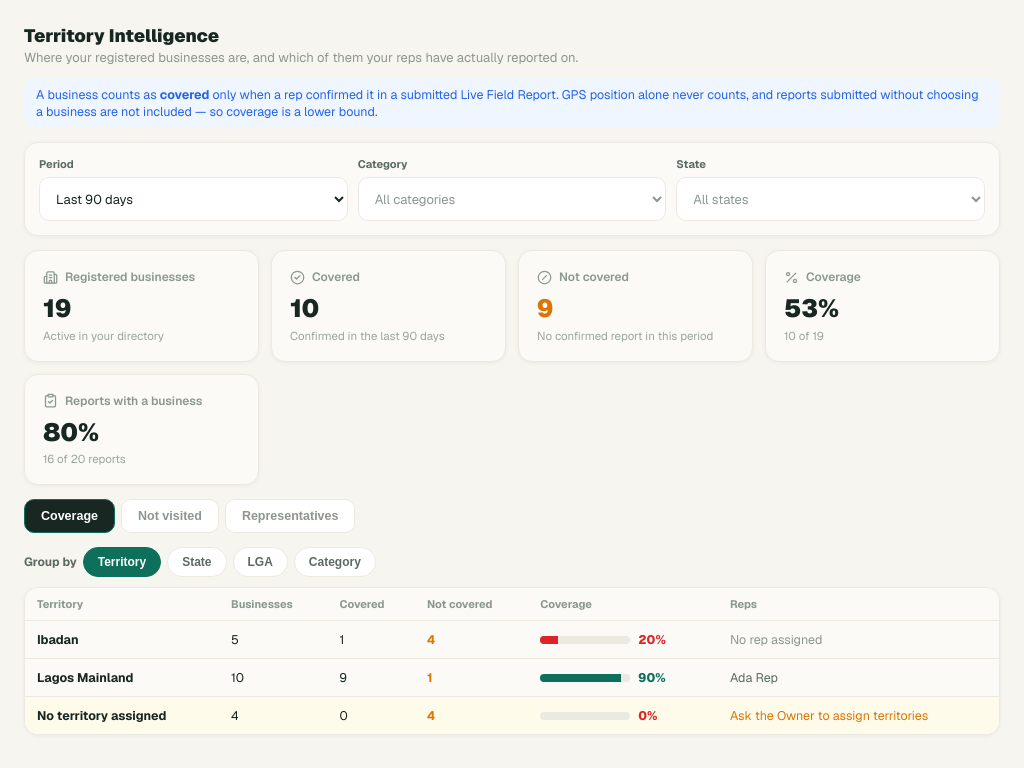
Scenario: TerritoryIntelligence › lists businesses not visited, never-visited labelled, and states the ordering
This screenshot has width=1024, height=768.
Step 1. Click the tab "Not visited" → [170, 516], box [121,499,219,533]
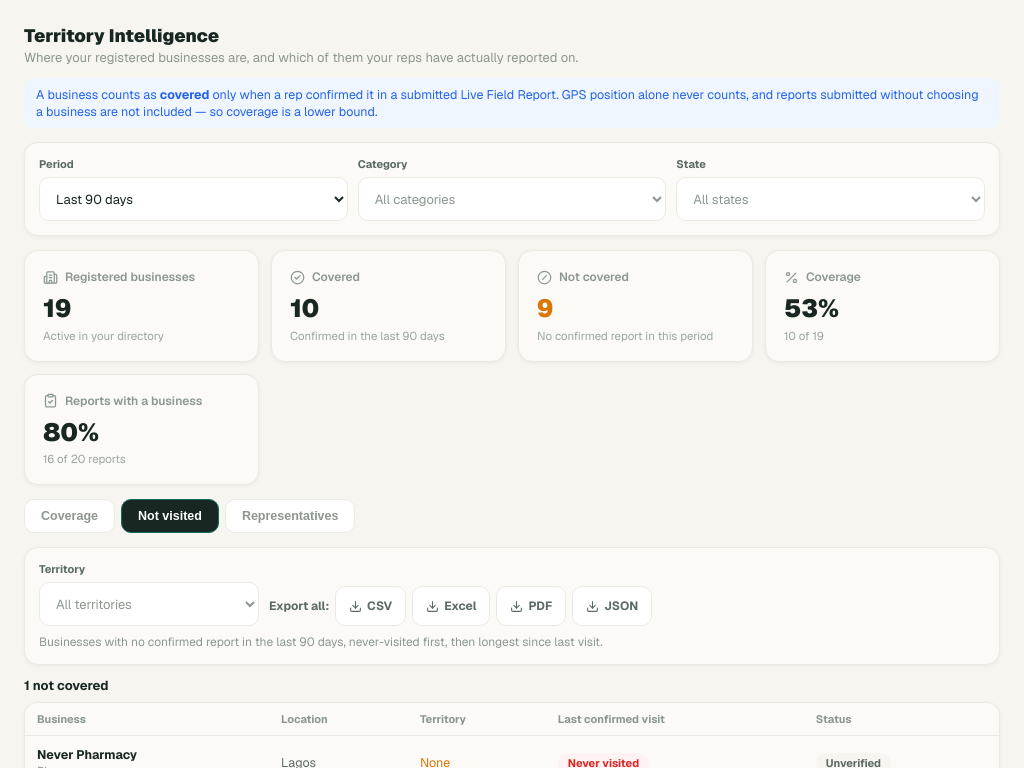
Expected: the text "Never Pharmacy" is shown, [37,746,137,763]
Expected: the text "1 not covered" is shown, [24,677,109,694]
